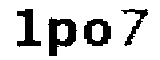1: (15, 4, 44, 52)
7: (118, 6, 152, 50)
o: (84, 18, 112, 52)
p: (48, 16, 79, 60)
